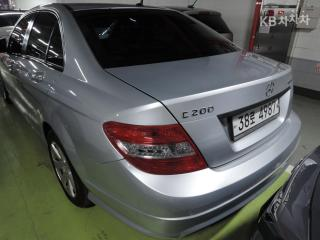3: (237, 115, 244, 131)
4: (257, 107, 264, 120)
7: (272, 100, 277, 113)
8: (244, 112, 250, 127), (268, 102, 272, 115)
9: (262, 104, 268, 118)
plate: (221, 95, 287, 141)
로: (249, 110, 256, 125)
